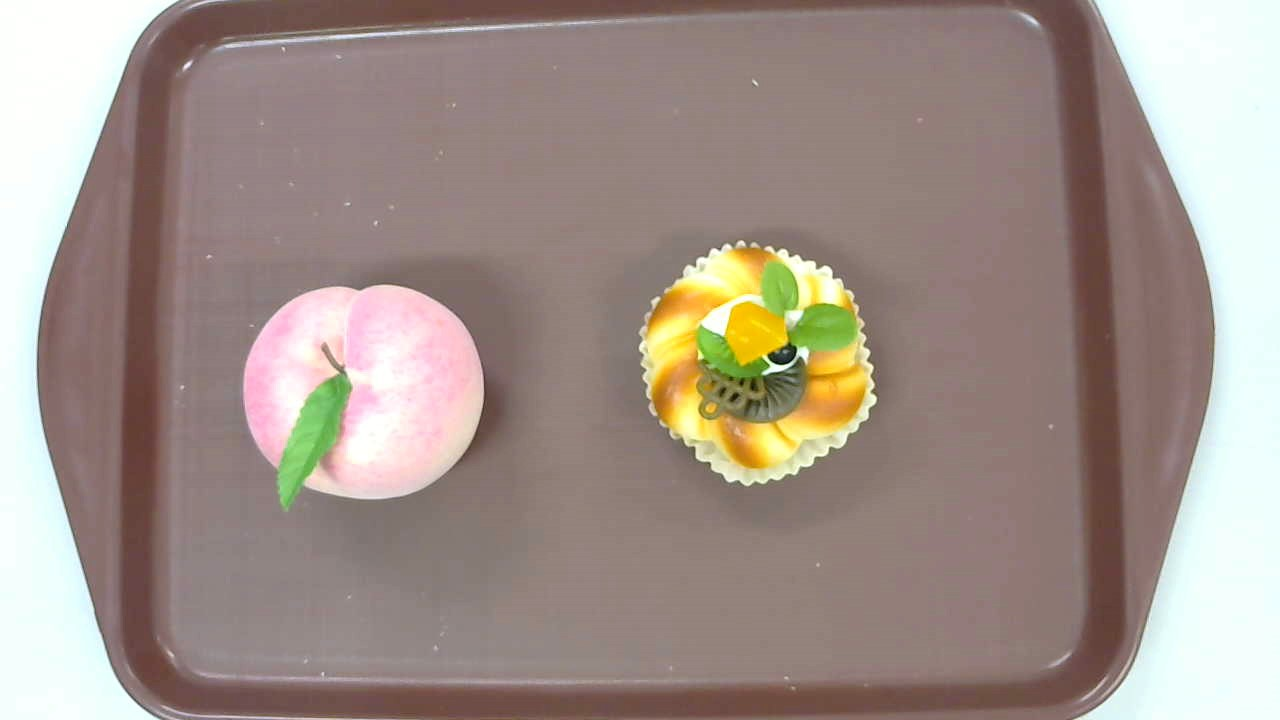fruit tart: (635, 240, 877, 489)
peach: (241, 284, 485, 513)
